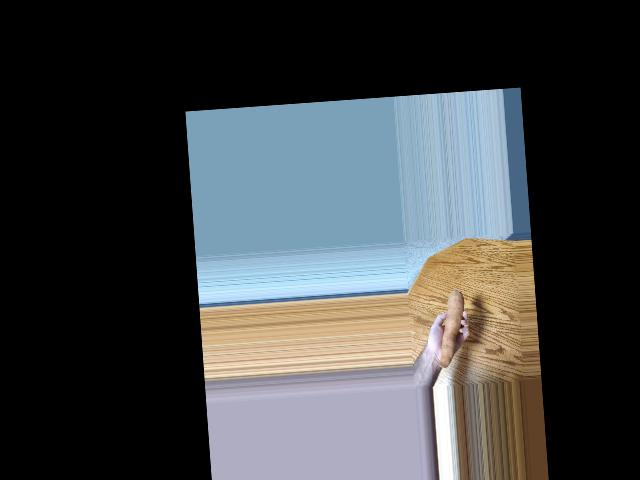sweet_potato: (436, 287, 470, 365)
